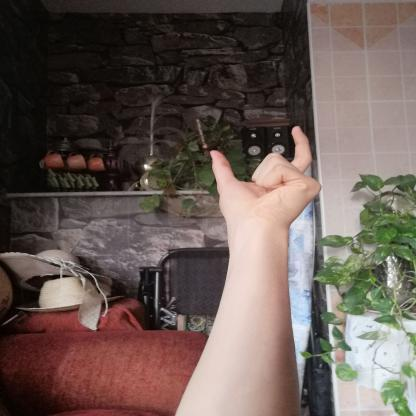NOON: (192, 116, 332, 246)
